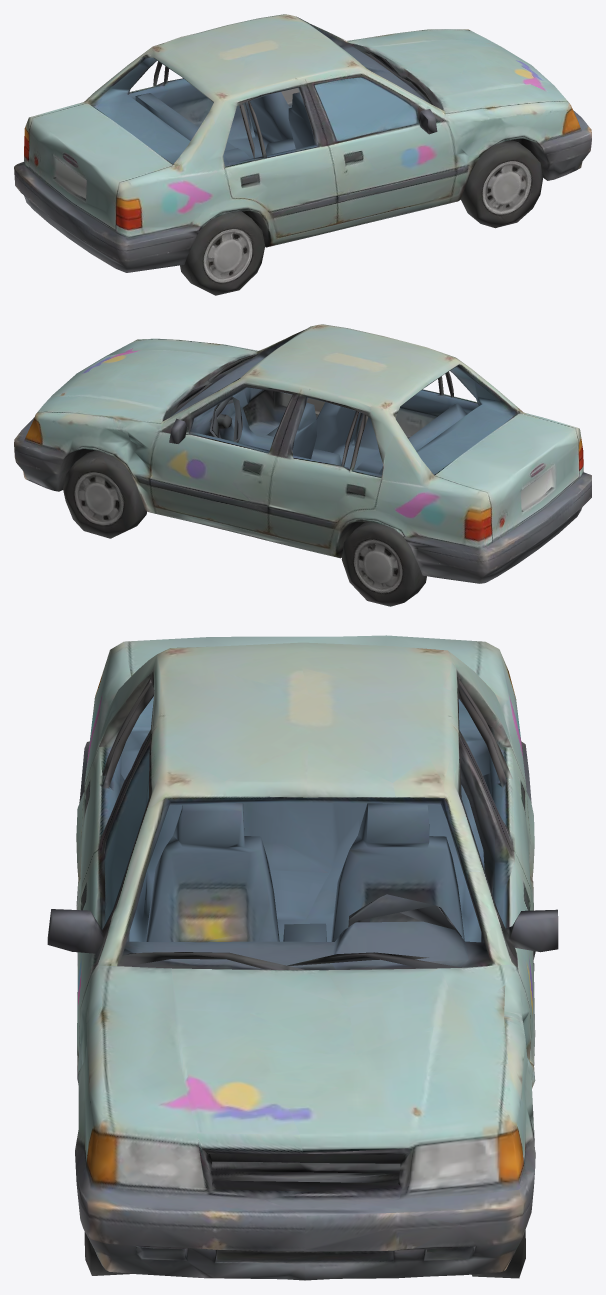
File: parked_car.glb
The picture shows the model from 3 angles, top to bottom: view 1: azimuth 30°, elevation 25°; view 2: azimuth 150°, elevation 25°; view 3: azimuth 270°, elevation 25°; orthographic projection. The views are drawn at different scales.
Parts seen in each view (by area): view 1: tripo_node_ef519ca1-dd91-4a15-9d5c-e6fc2b4adfda; view 2: tripo_node_ef519ca1-dd91-4a15-9d5c-e6fc2b4adfda; view 3: tripo_node_ef519ca1-dd91-4a15-9d5c-e6fc2b4adfda.
Part boxes in pixels (left/top/right/bottom): tripo_node_ef519ca1-dd91-4a15-9d5c-e6fc2b4adfda: left=14, top=14, right=591, bottom=295; tripo_node_ef519ca1-dd91-4a15-9d5c-e6fc2b4adfda: left=14, top=324, right=591, bottom=606; tripo_node_ef519ca1-dd91-4a15-9d5c-e6fc2b4adfda: left=47, top=635, right=558, bottom=1280.
Bounding box in the file's own units: 1 × 0.3597 × 0.4498.
Materials: 1 (1 with a texture image).
